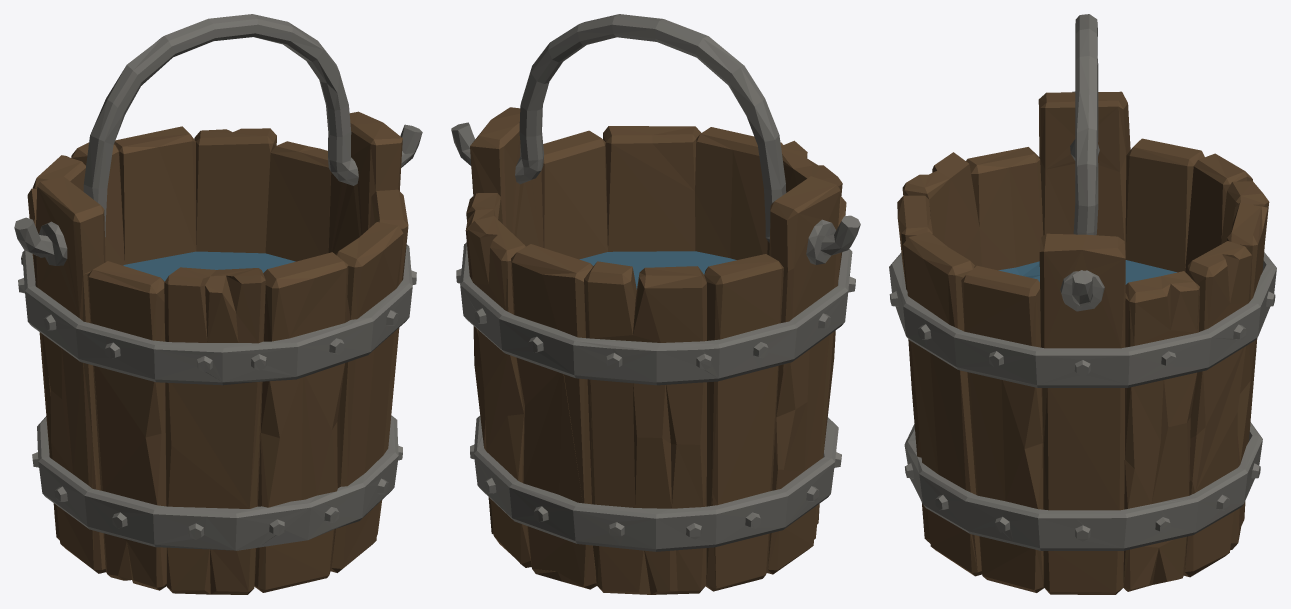
Rendered from WoodenWaterBucket.fbx.
The picture shows the model from 3 angles, left to right: view 1: azimuth 30°, elevation 25°; view 2: azimuth 150°, elevation 25°; view 3: azimuth 270°, elevation 25°; orthographic projection. The views are drawn at different scales.
Visible parts, largest first — view 1: WoodenWaterBucket; view 2: WoodenWaterBucket; view 3: WoodenWaterBucket.
Part boxes in pixels (x1,y1,x2,y2): WoodenWaterBucket: [14, 14, 422, 594]; WoodenWaterBucket: [451, 14, 860, 594]; WoodenWaterBucket: [889, 14, 1276, 594].
Size of the model in its own units: 0.4493 by 0.3812 by 0.5398.
